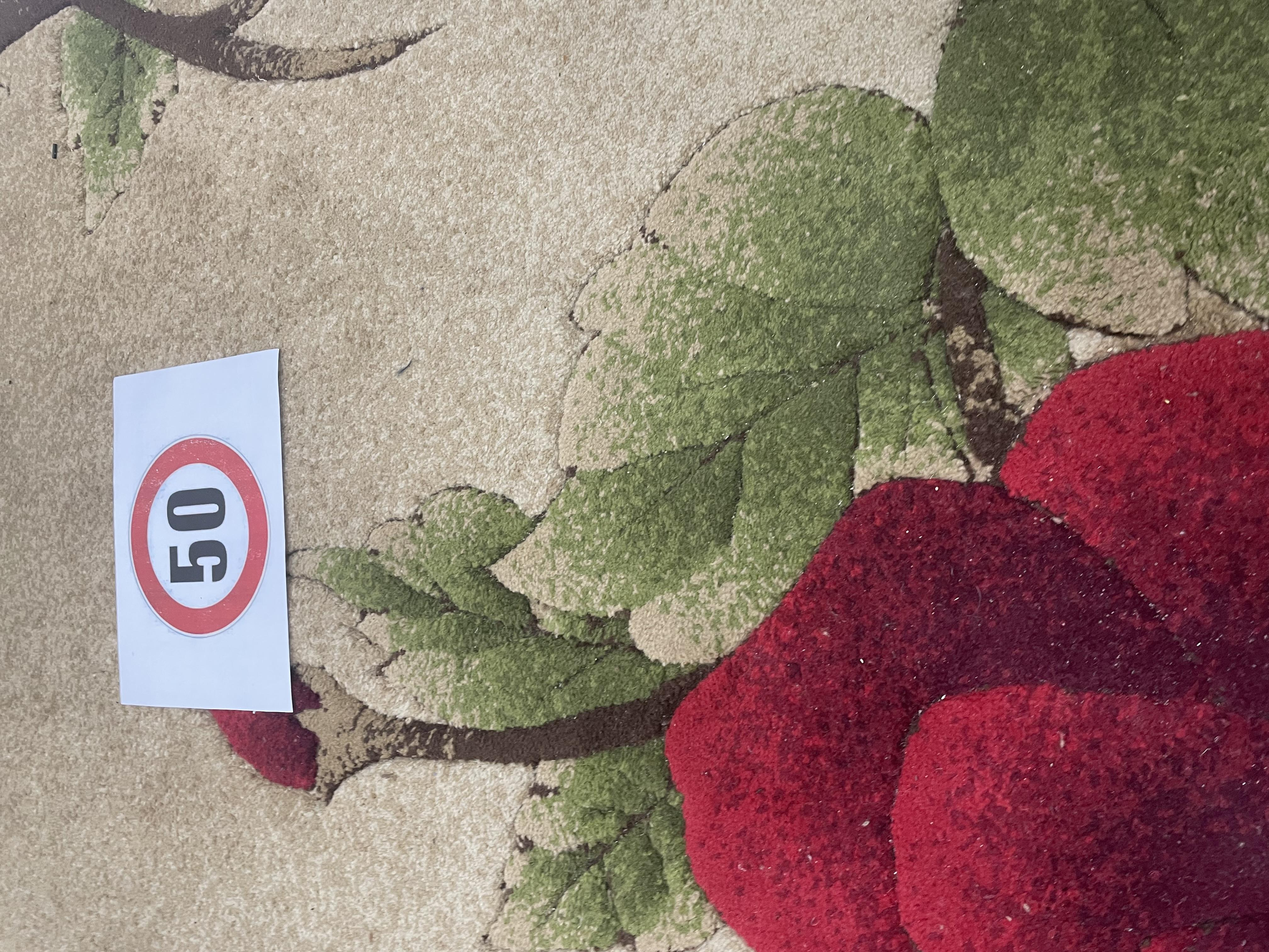50-Speed: (415, 93, 692, 204)
